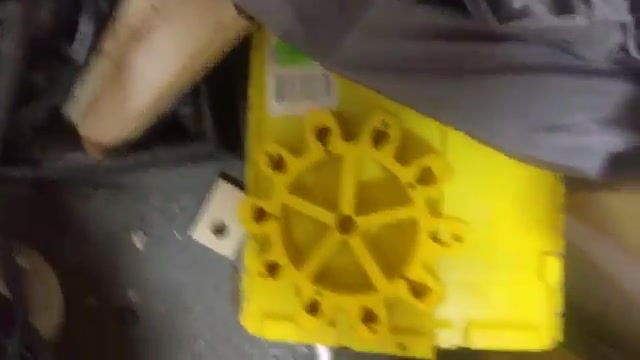gear: (230, 98, 481, 346)
